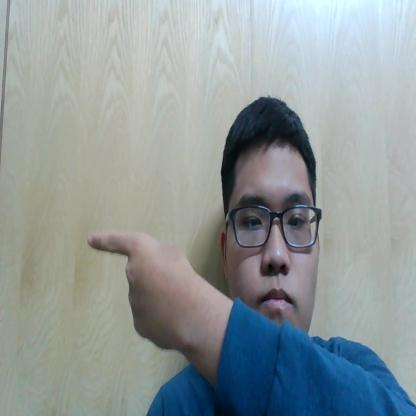right: (77, 218, 206, 375)
